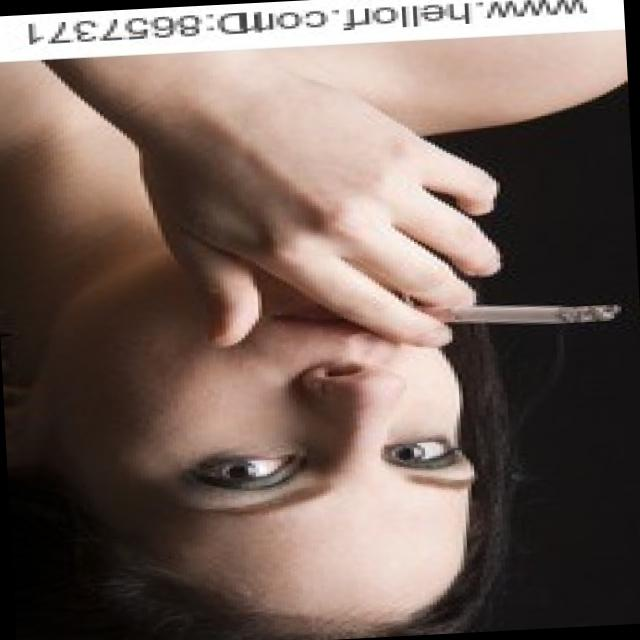cigarette: (411, 287, 623, 340)
